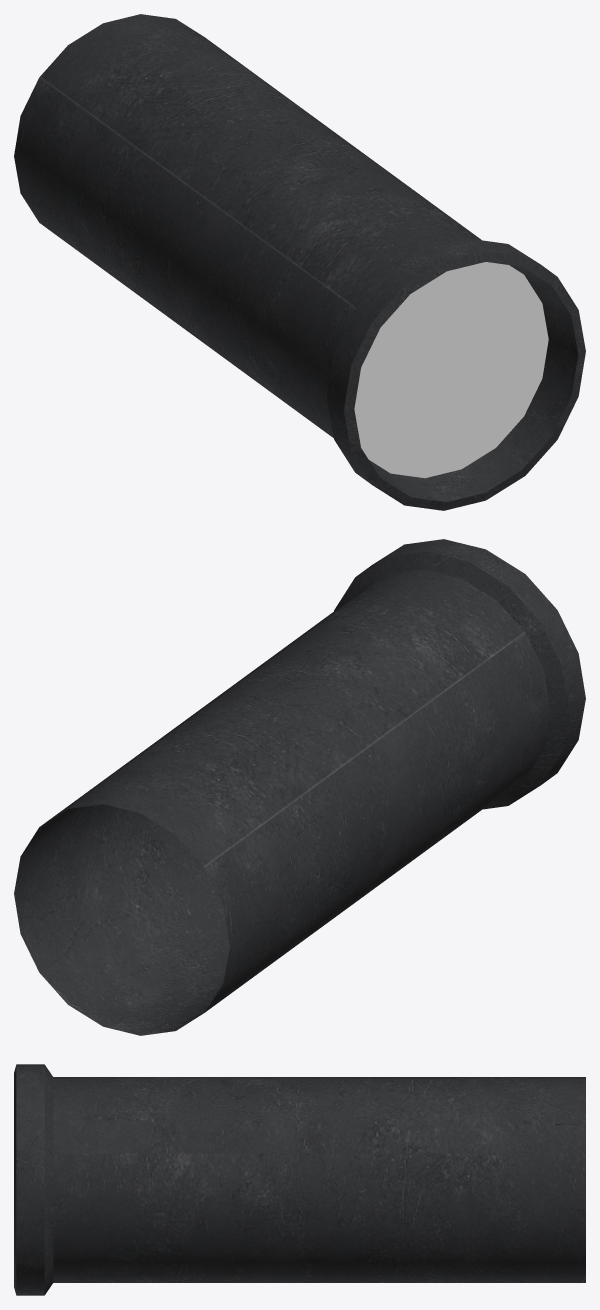
The model's file is Pipe.fbx.
The picture shows the model from 3 angles, top to bottom: view 1: azimuth 30°, elevation 25°; view 2: azimuth 150°, elevation 25°; view 3: azimuth 270°, elevation 25°; orthographic projection. The views are drawn at different scales.
Parts seen in each view (by area): view 1: Pipe; view 2: Pipe; view 3: Pipe.
Boxes of the visible parts, <box> form: Pipe: <box>14,14,585,510</box>; Pipe: <box>14,539,585,1035</box>; Pipe: <box>14,1064,585,1295</box>.
Size of the model in its own units: 0.8264 by 0.3355 by 0.3304.
